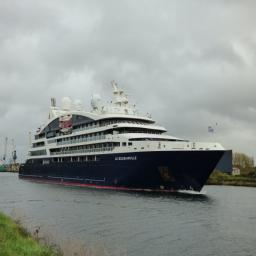cruises: (19, 81, 231, 202)
